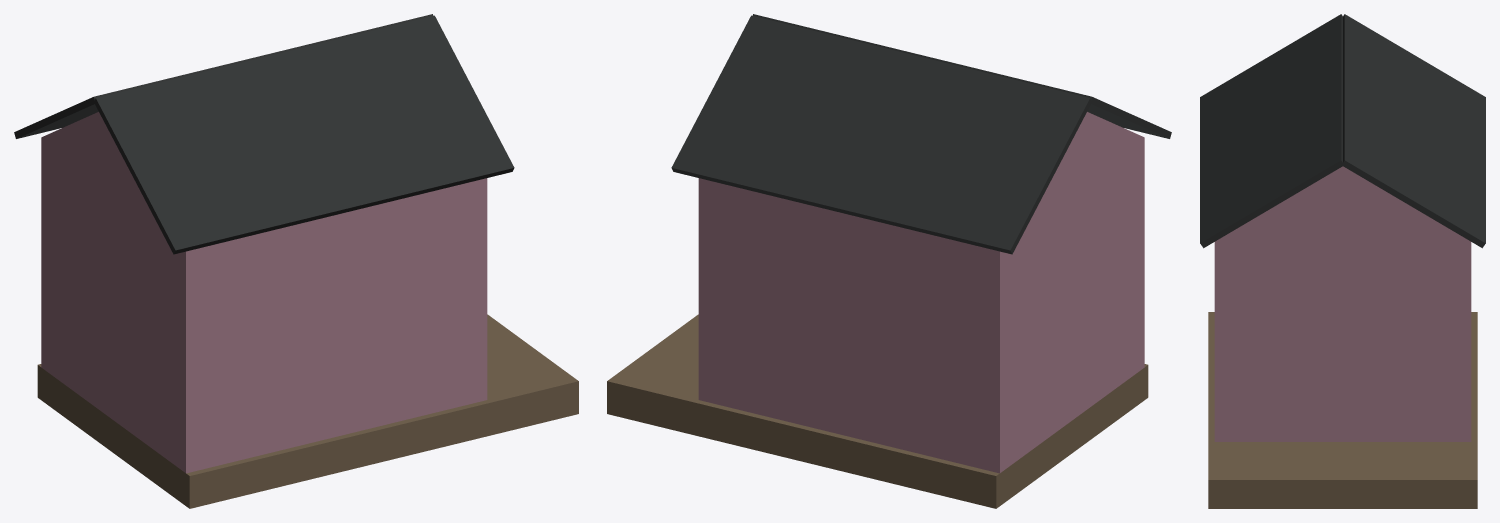
Rendered from SM_Prop_coast_beachhut_5_LOD2.glb.
3 renders of one model, left to right at view 1: azimuth 30°, elevation 25°; view 2: azimuth 150°, elevation 25°; view 3: azimuth 270°, elevation 25°, orthographic. The views are drawn at different scales.
Parts seen in each view (by area): view 1: SM_Prop_coast_beachhut_5_LOD2; view 2: SM_Prop_coast_beachhut_5_LOD2; view 3: SM_Prop_coast_beachhut_5_LOD2.
Boxes of the visible parts, x1=… form: SM_Prop_coast_beachhut_5_LOD2: x1=14, y1=14, x2=578, y2=508; SM_Prop_coast_beachhut_5_LOD2: x1=607, y1=14, x2=1171, y2=508; SM_Prop_coast_beachhut_5_LOD2: x1=1200, y1=14, x2=1485, y2=508.
Bounding box in the file's own units: 3.25 × 2.74 × 2.23.
